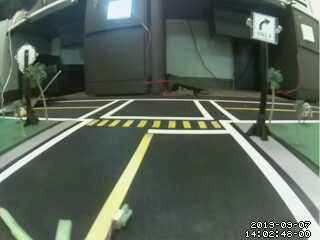Right_only_sign: (251, 12, 281, 48)
